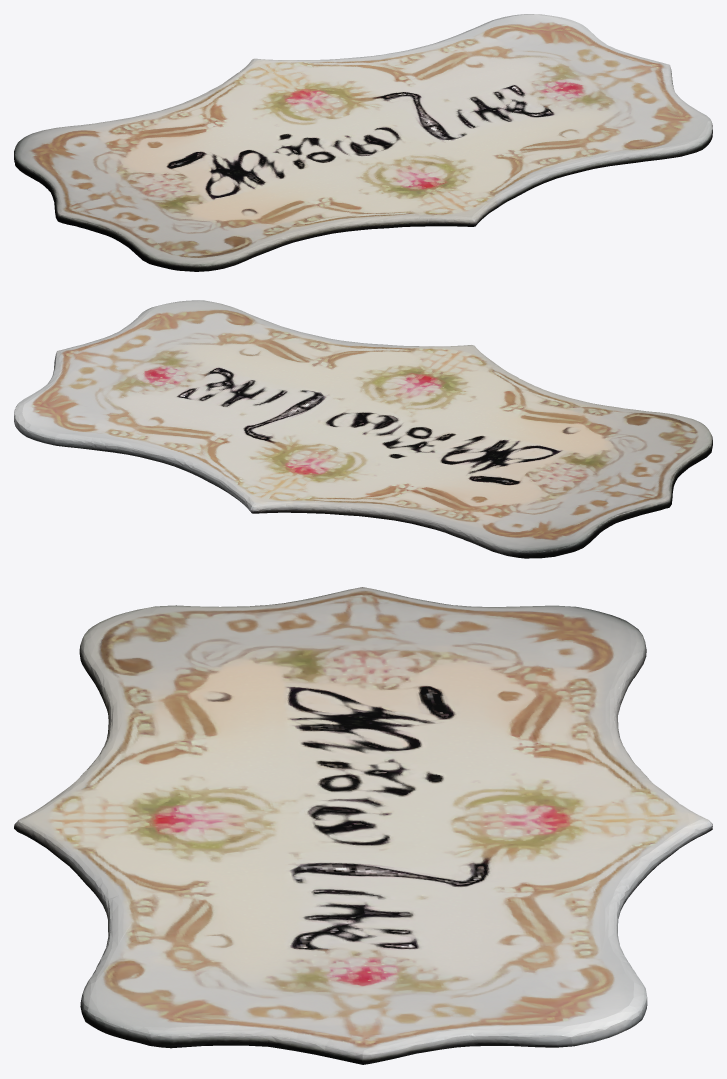
The model's file is porcelain-nameplate-vintage.jpeg.glb.
3 renders of one model, top to bottom at view 1: azimuth 30°, elevation 25°; view 2: azimuth 150°, elevation 25°; view 3: azimuth 270°, elevation 25°, orthographic. The views are drawn at different scales.
Parts seen in each view (by area): view 1: world; view 2: world; view 3: world.
Boxes of the visible parts, left/top/right/bottom form: world: left=14, top=14, right=712, bottom=271; world: left=14, top=300, right=712, bottom=558; world: left=14, top=587, right=712, bottom=1064.
Bounding box in the file's own units: 1 × 0.019 × 0.6302.
1 material, 1 textured.
